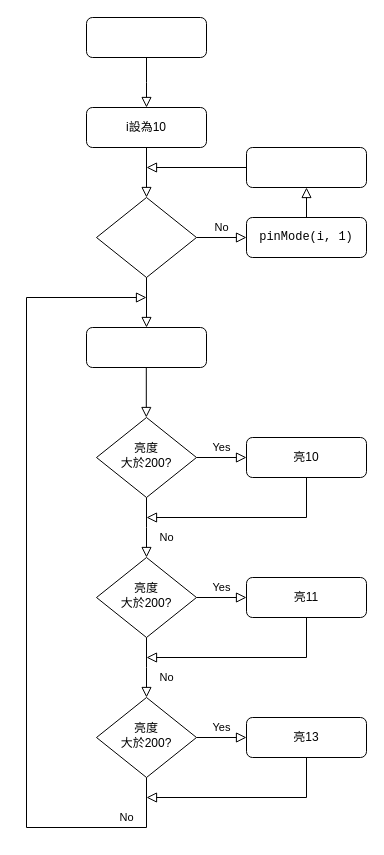
This 384x855 diagram has some shape labels left out. The shapes that lost their labels are listed below. From the top down, each one's centre as x and y in pixels, then its label:
At pixel 146 37: "通電".
At pixel 306 167: "i++".
At pixel 146 237: "i<13?".
At pixel 146 347: "讀取亮度".
